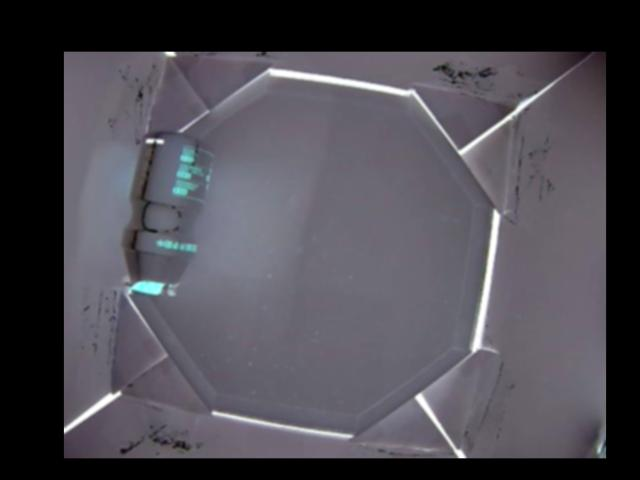Bottle: (122, 131, 217, 294)
